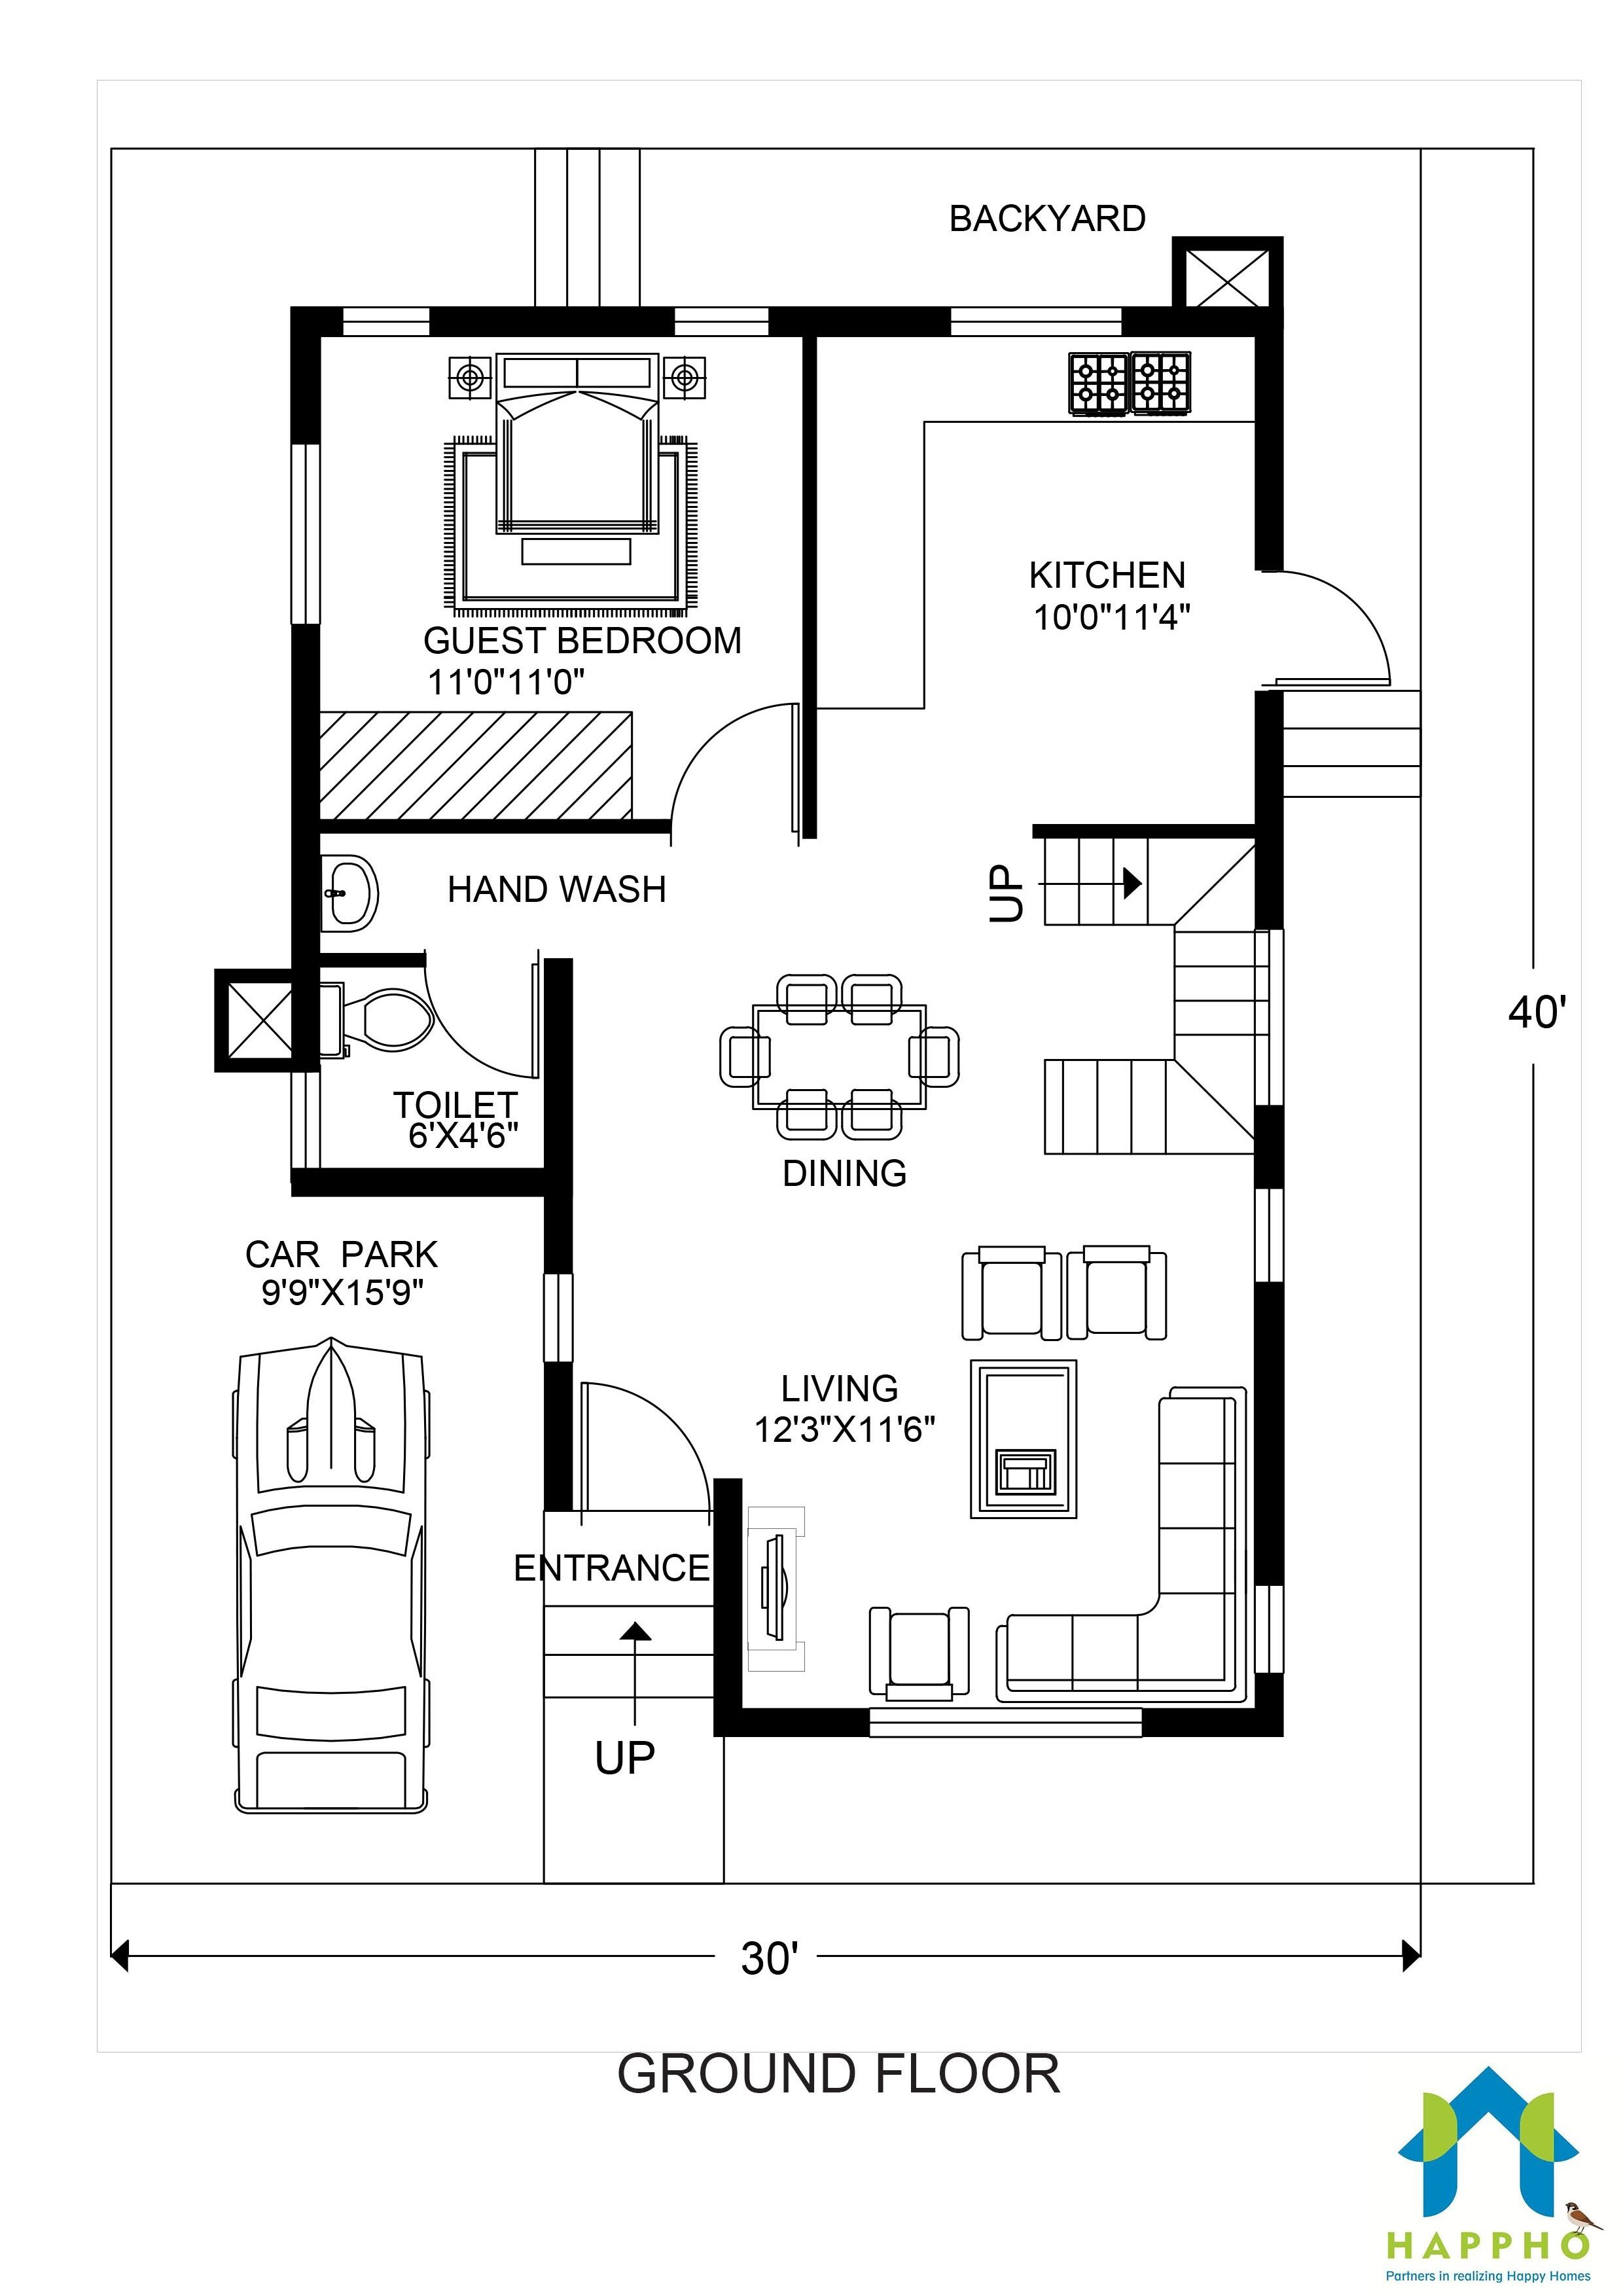window: (868, 1702, 1142, 1743), (947, 304, 1122, 339), (290, 443, 321, 625), (288, 1070, 327, 1172), (1252, 1182, 1288, 1288), (671, 304, 771, 341), (539, 1270, 576, 1365), (1252, 1581, 1288, 1676), (339, 306, 432, 339)
